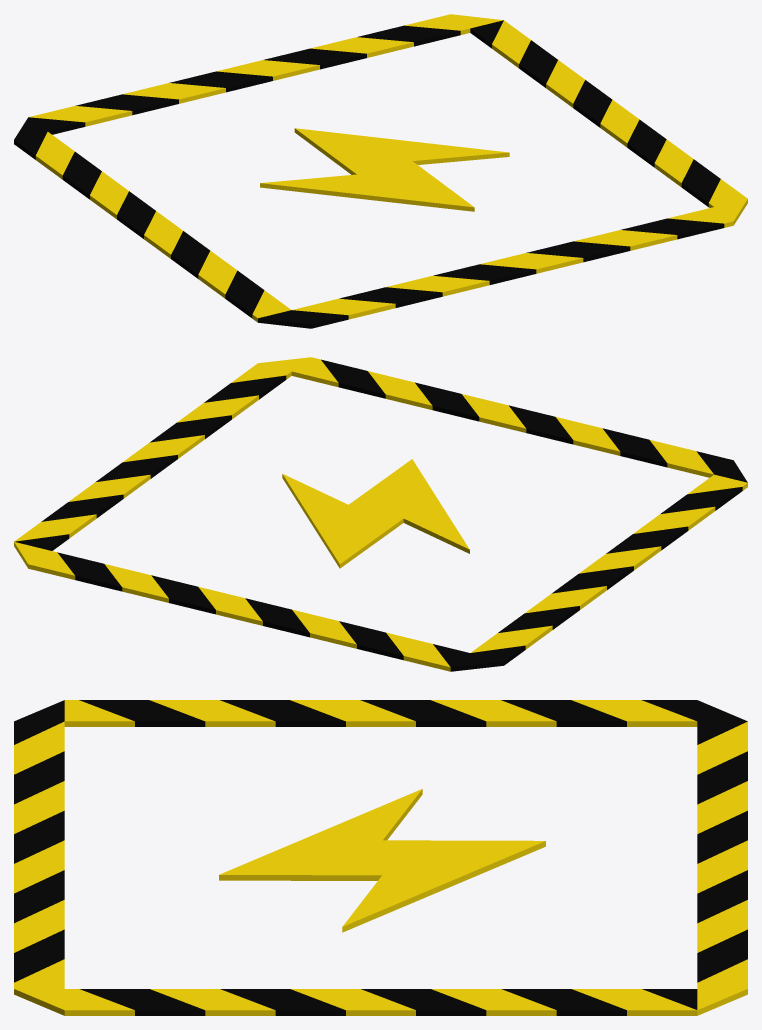
The model's file is 차징존1.fbx.
The picture shows the model from 3 angles, top to bottom: view 1: azimuth 30°, elevation 25°; view 2: azimuth 150°, elevation 25°; view 3: azimuth 270°, elevation 25°; orthographic projection. The views are drawn at different scales.
Parts seen in each view (by area): view 1: Rectangle002, Rectangle003, Rectangle005, Rectangle004, Rectangle006; view 2: Rectangle003, Rectangle002, Rectangle004, Rectangle005, Rectangle006; view 3: Rectangle005, Rectangle004, Rectangle006, Rectangle003, Rectangle002.
Part boxes in pixels (bbox=[...]): Rectangle002: bbox=[258, 207, 733, 328]; Rectangle003: bbox=[28, 14, 503, 134]; Rectangle005: bbox=[470, 20, 747, 225]; Rectangle004: bbox=[14, 117, 290, 322]; Rectangle006: bbox=[260, 128, 509, 211]; Rectangle003: bbox=[14, 542, 469, 671]; Rectangle002: bbox=[291, 357, 747, 482]; Rectangle004: bbox=[450, 474, 747, 671]; Rectangle005: bbox=[14, 357, 310, 550]; Rectangle006: bbox=[282, 459, 469, 568]; Rectangle005: bbox=[14, 989, 697, 1015]; Rectangle004: bbox=[64, 700, 746, 726]; Rectangle006: bbox=[219, 789, 545, 932]; Rectangle003: bbox=[697, 721, 747, 1015]; Rectangle002: bbox=[14, 700, 64, 988].
Bounding box in the file's own units: 1.16 × 0.01 × 1.16.
